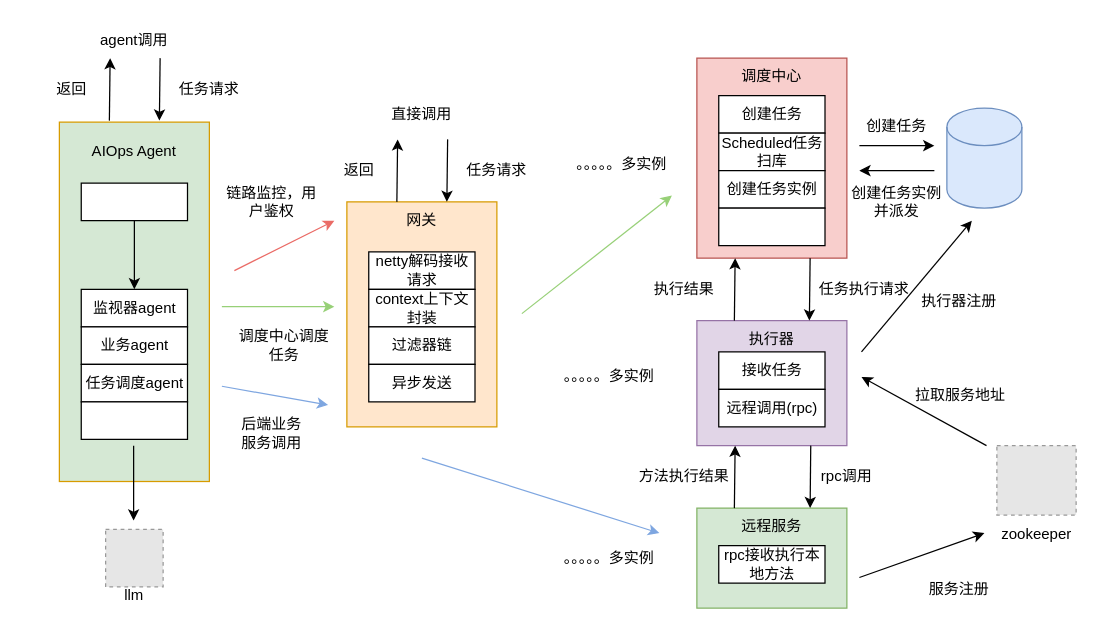
Some shapes in this 1108 by 635 pixel diagram are drawn without their labels. Grey dashed boxes stand in for pictures. Here are the shapes that lost their labels. From the top down, the centre of each, then its label:
the point at 984,157: 数据库
the point at 134,201: 路由agent
the point at 771,226: 任务派发
the point at 134,420: 问题解决agent
